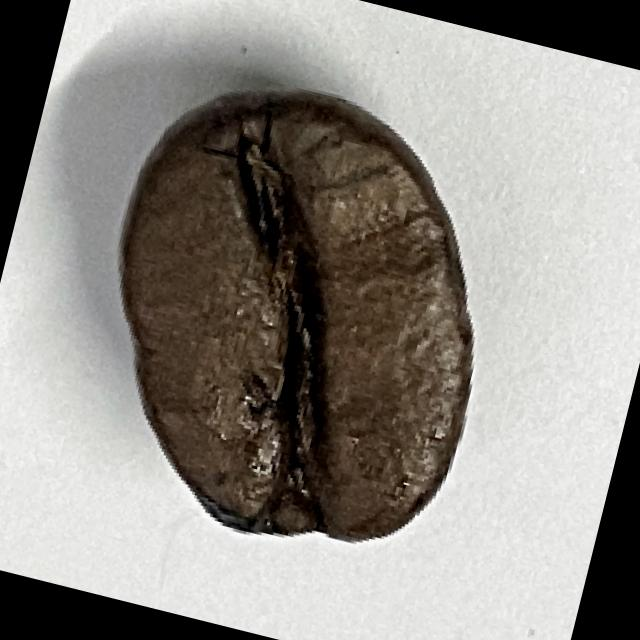bean: (58, 56, 538, 581)
